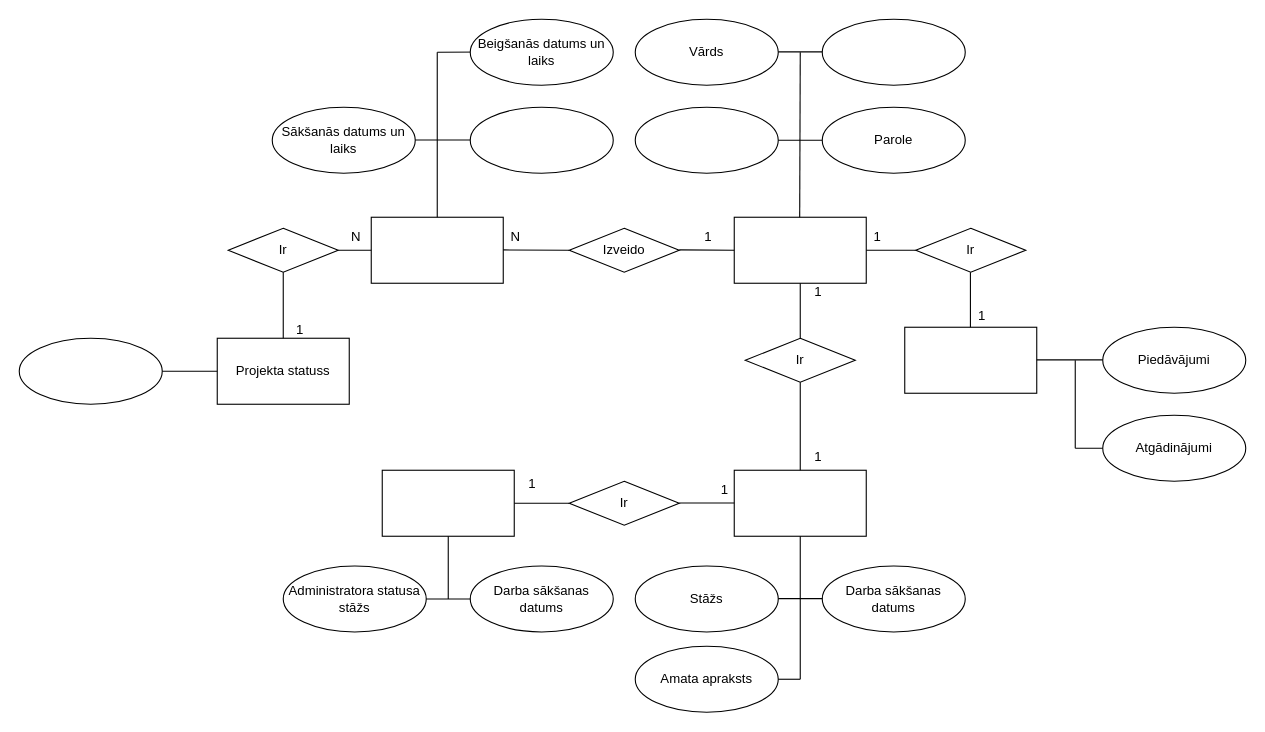
The diagram is 1265 pixels wide and 732 high, and some of its shapes have lost their labels. The centre of each missing label's shape, as x and y in pixels:
Administrators: (x=447, y=502)
Darbinieks: (x=799, y=502)
Lietotājs: (x=799, y=249)
Lietotājvārds: (x=706, y=139)
Paziņojumu iestatījumi: (x=970, y=359)
Projekta informācija: (x=541, y=139)
Projekts: (x=436, y=249)
Statusa nosaukums: (x=90, y=370)
Ēpasta adrese: (x=893, y=51)
